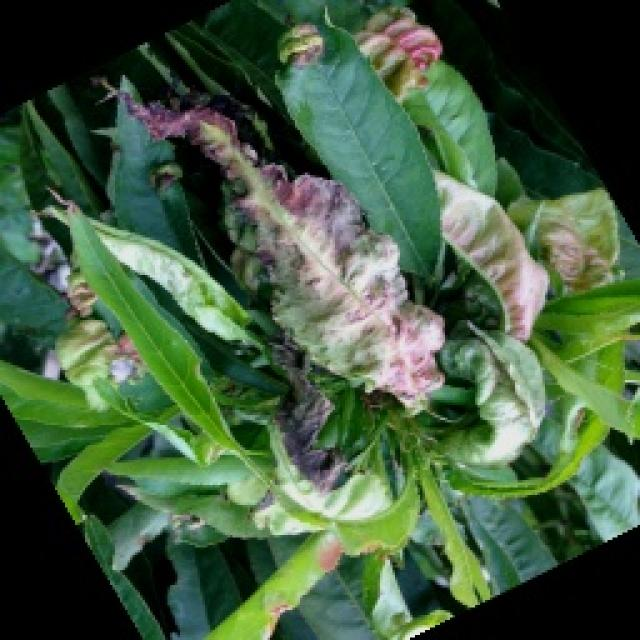Golden_canker: (0, 0, 638, 638)
peach_leaf_curl: (174, 54, 506, 473)
